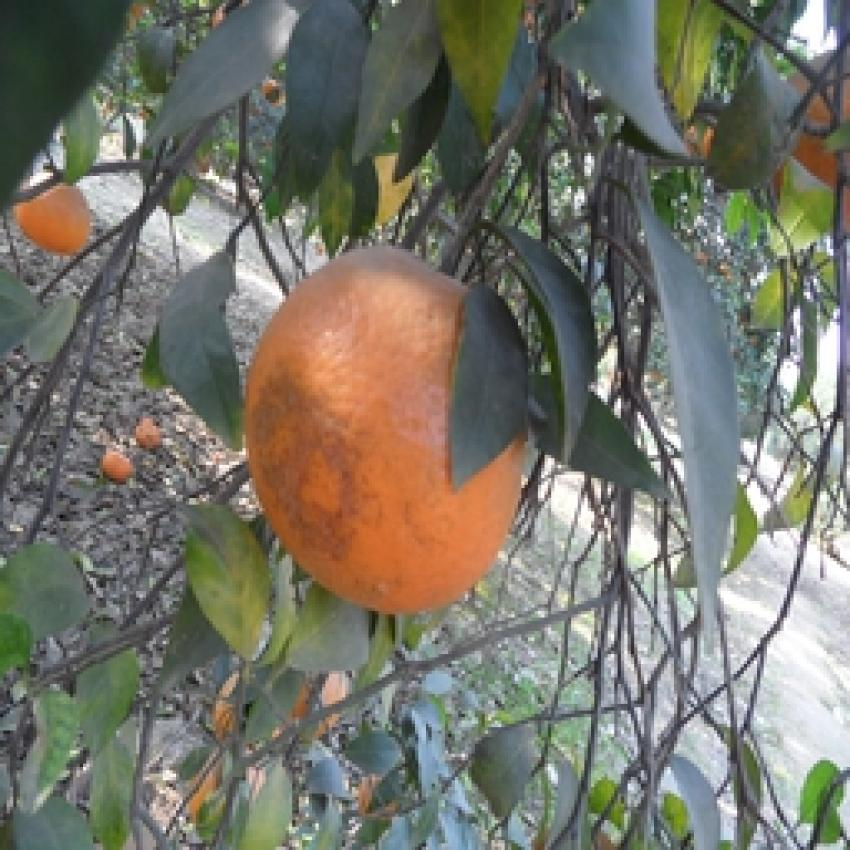Mal estado: (216, 241, 546, 625)
